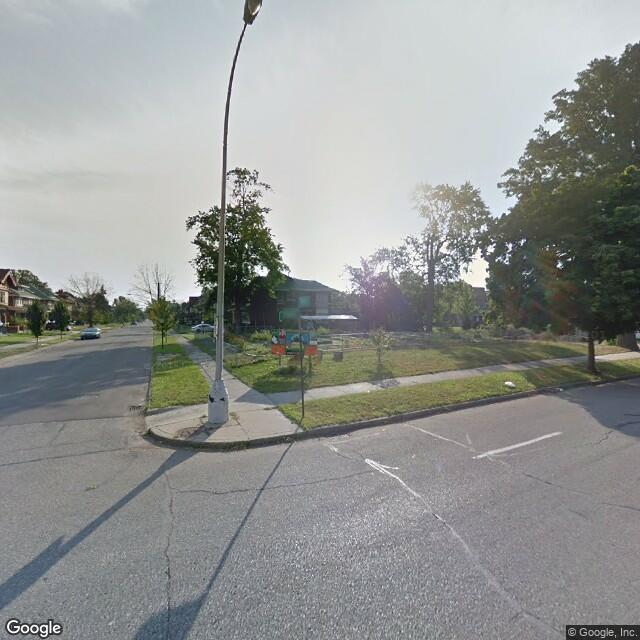litter: (503, 379, 517, 389), (283, 435, 294, 440), (556, 387, 567, 391)
